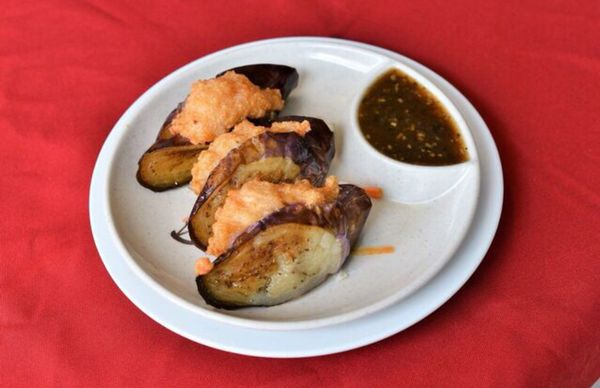curry: (2, 0, 592, 380)
